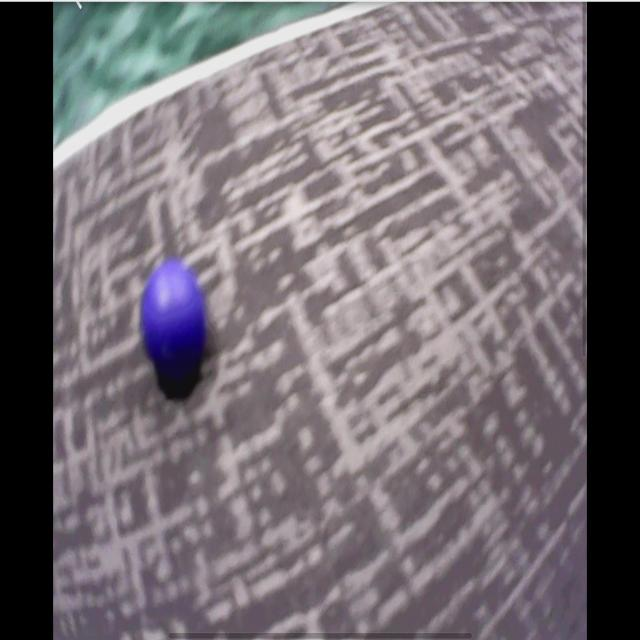ball: (141, 262, 203, 375)
